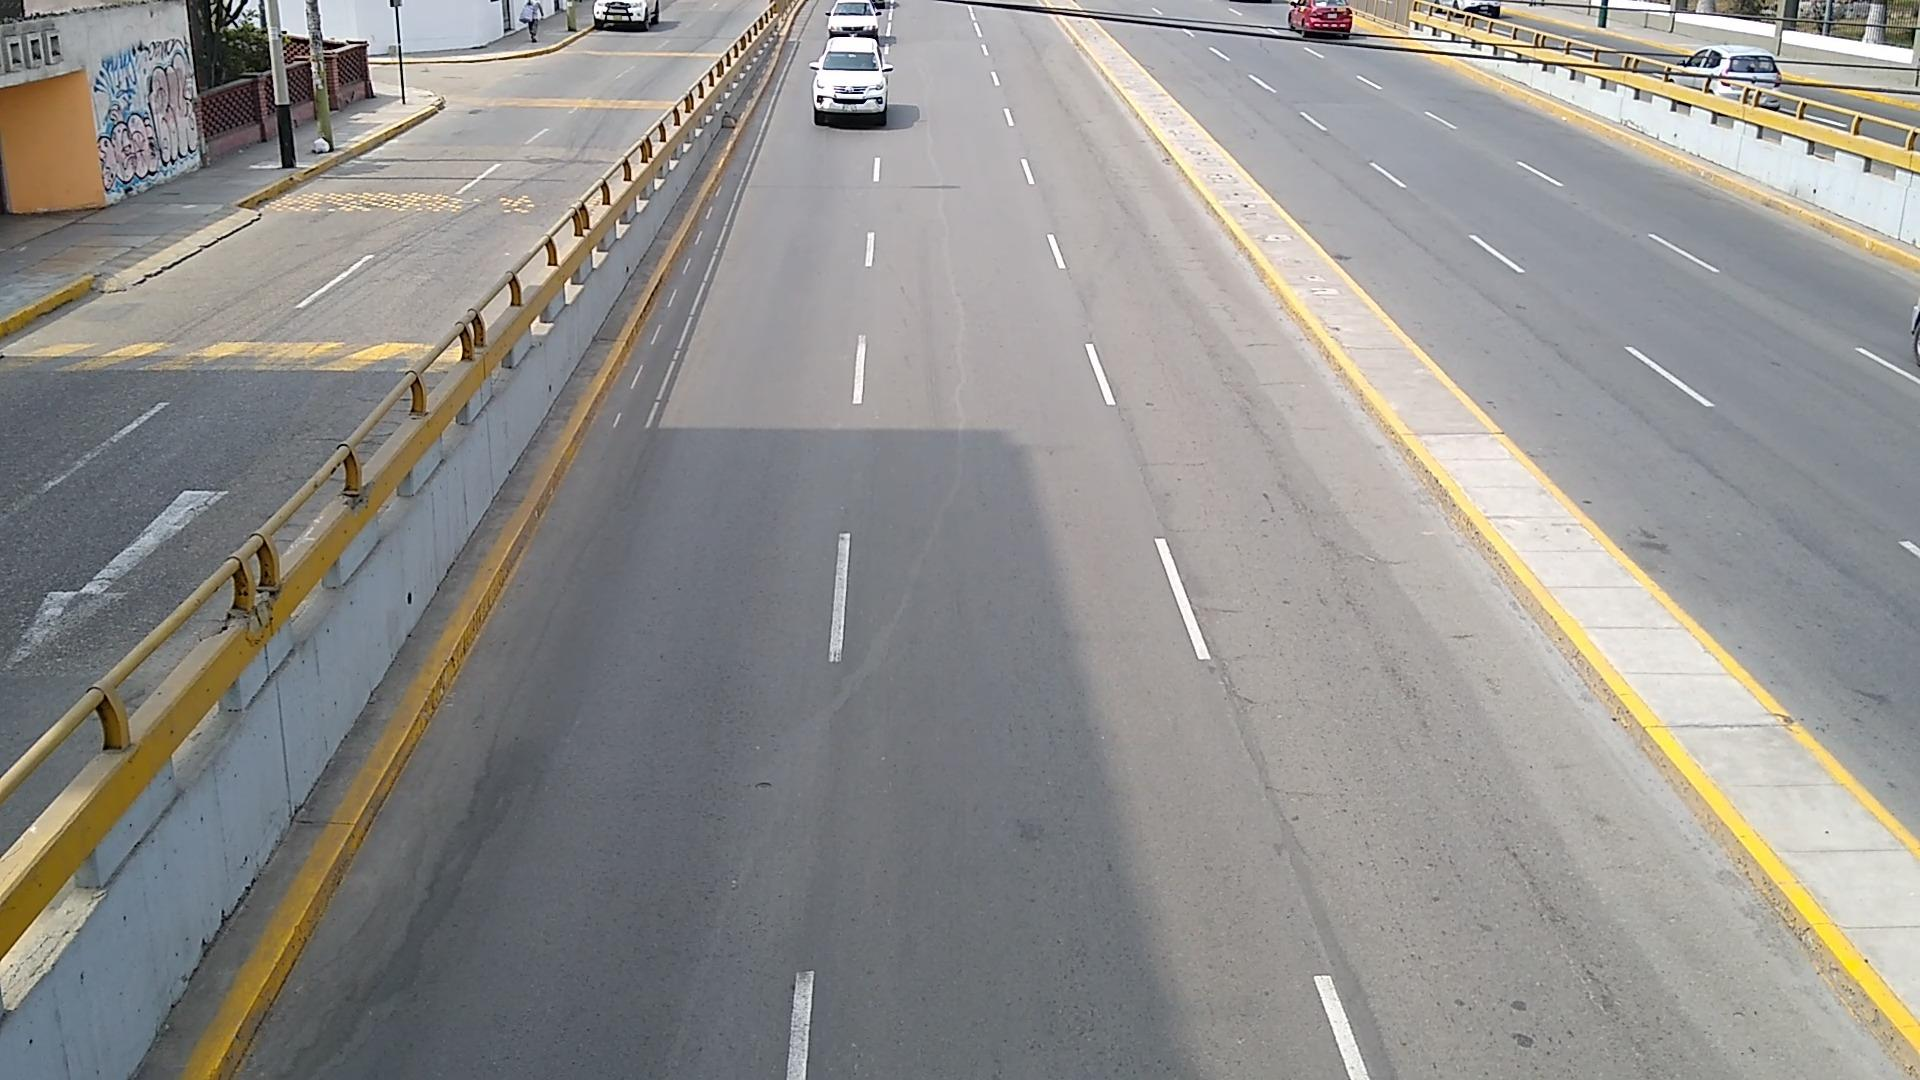car: (814, 37, 893, 124), (814, 37, 889, 124), (825, 0, 877, 37)
